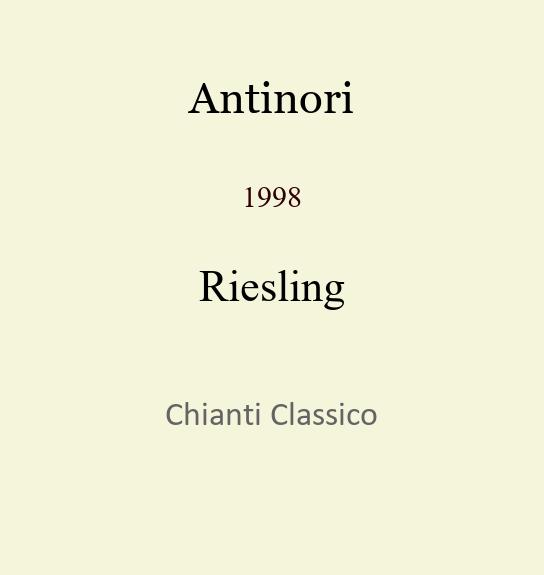brand: (189, 72, 355, 104)
region: (165, 399, 378, 422)
variety: (199, 261, 345, 301)
vintage: (242, 180, 302, 200)
